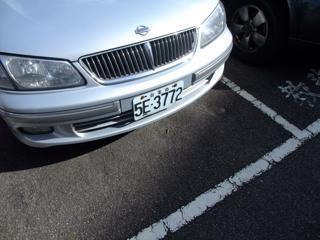plate: (130, 83, 182, 117)
